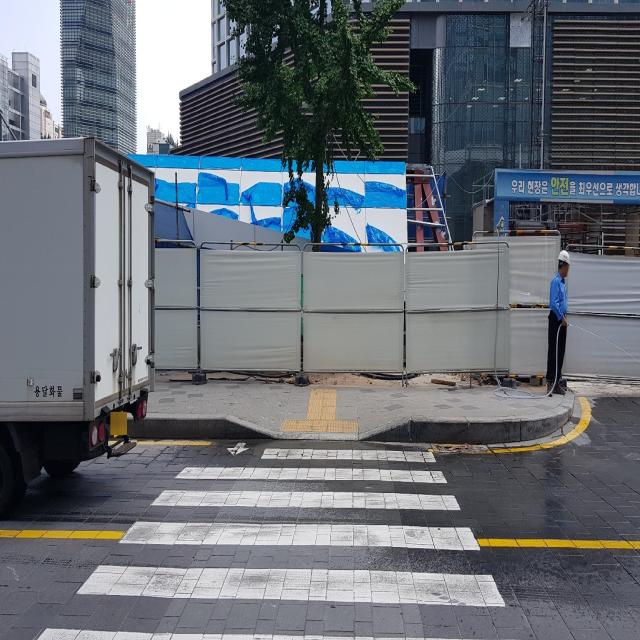횡단보도: (36, 438, 508, 640)
